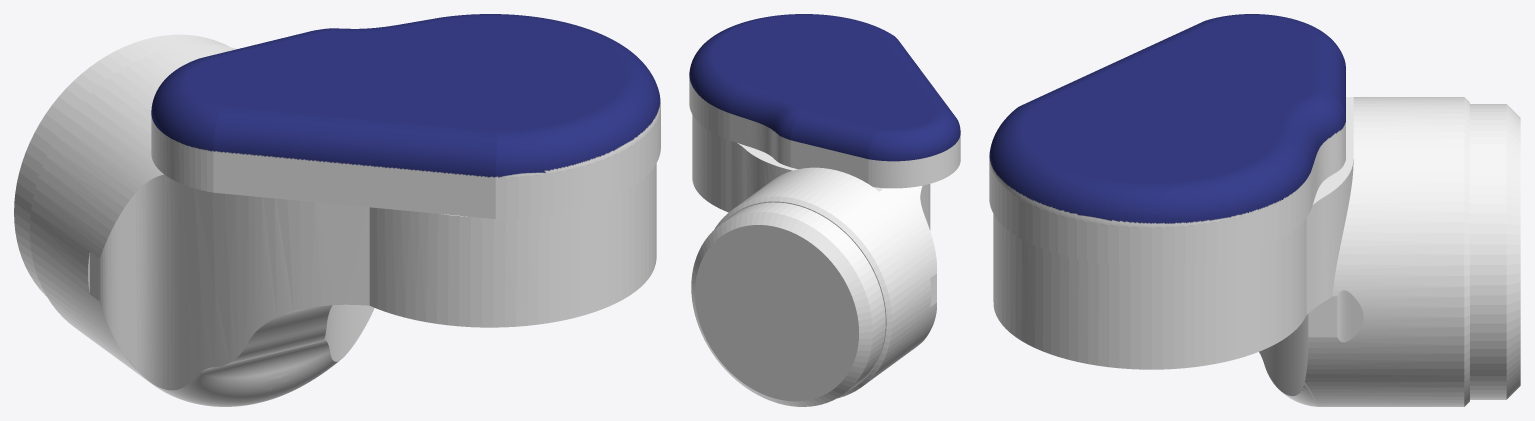
3 views of the same model, side by side, from view 1: azimuth 30°, elevation 25°; view 2: azimuth 150°, elevation 25°; view 3: azimuth 270°, elevation 25° (orthographic). The views are drawn at different scales.
Parts seen in each view (by area): view 1: Link_U; view 2: Link_U; view 3: Link_U.
Boxes of the visible parts, <box> form: Link_U: <box>14,14,660,406</box>; Link_U: <box>689,14,960,406</box>; Link_U: <box>989,14,1520,406</box>.
Bounding box in the file's own units: 0.1725 × 0.1885 × 0.131.
Materials: 1 (1 with a texture image).
